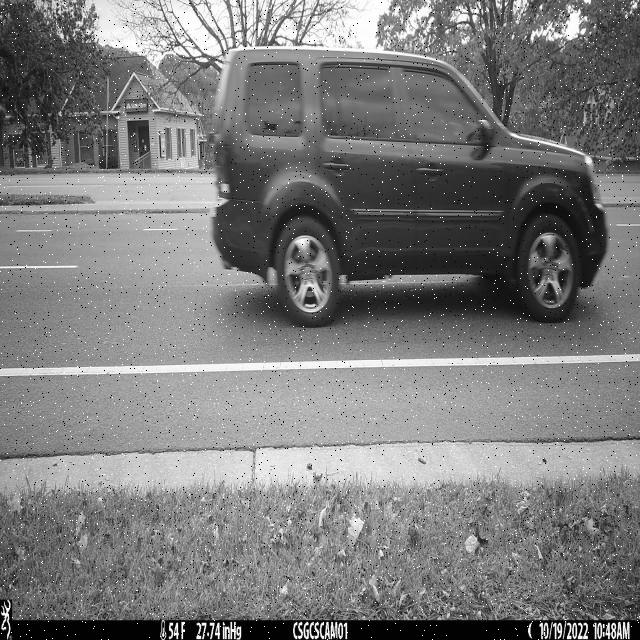SUV: (210, 46, 609, 329)
